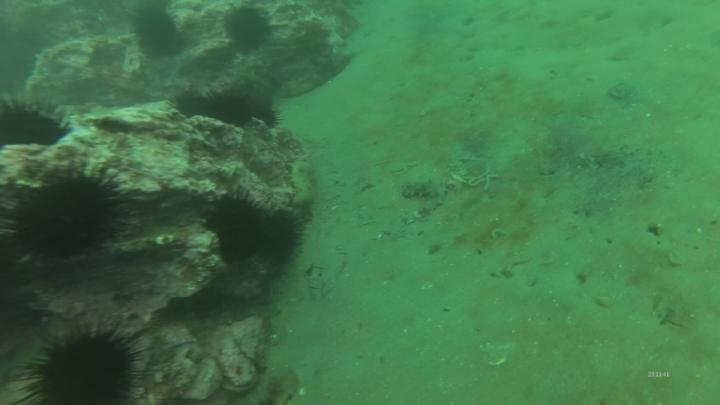echinus: (7, 162, 131, 274), (19, 324, 156, 405), (203, 183, 272, 264), (181, 88, 280, 128), (1, 96, 73, 150), (263, 201, 311, 275), (220, 2, 278, 60), (130, 5, 185, 58)
holothurian: (288, 157, 322, 209), (400, 174, 446, 203)
